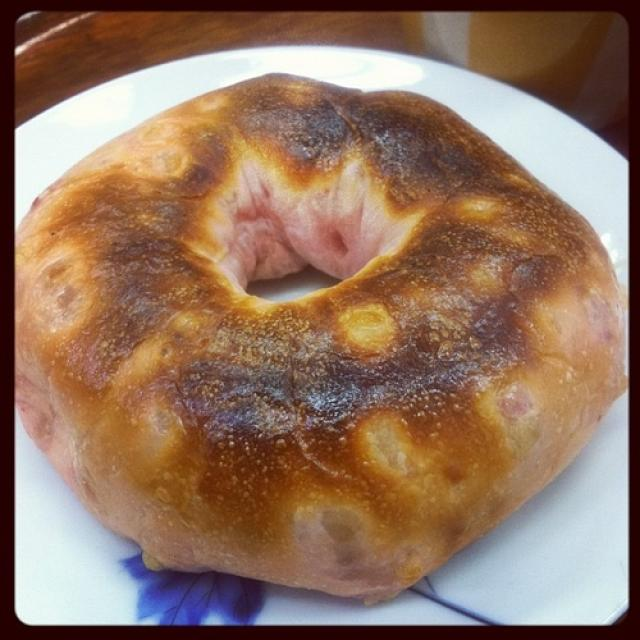面包点心: (13, 66, 623, 596)
